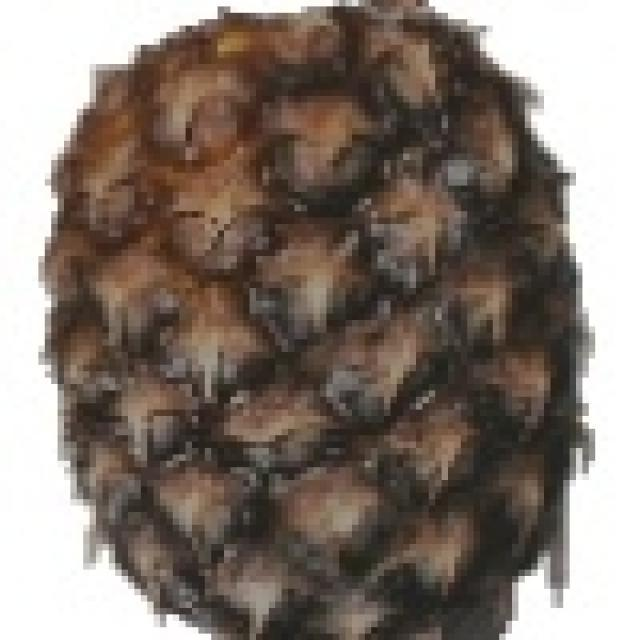pineapple: (44, 0, 582, 640)
